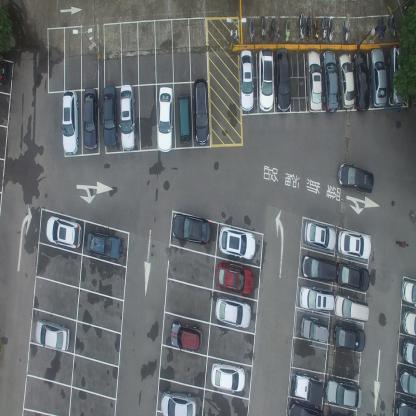car: (171, 211, 212, 245), (218, 224, 256, 260), (216, 260, 254, 295), (45, 214, 82, 249), (325, 376, 363, 410), (192, 77, 210, 146), (35, 317, 70, 352), (214, 296, 251, 329), (156, 86, 174, 152), (337, 162, 374, 194), (61, 90, 79, 155), (210, 360, 246, 392), (82, 87, 100, 150), (320, 50, 338, 113), (388, 43, 406, 106), (120, 83, 136, 153), (292, 370, 324, 405), (352, 50, 370, 112), (257, 47, 274, 112), (86, 230, 122, 260), (305, 50, 322, 113), (160, 388, 198, 415), (170, 319, 202, 351), (274, 46, 290, 110), (303, 219, 336, 250), (334, 293, 369, 322), (102, 85, 118, 148), (337, 53, 355, 109), (301, 254, 337, 282), (238, 50, 254, 112), (338, 229, 371, 259), (337, 262, 370, 292), (298, 285, 334, 312), (370, 48, 386, 108), (333, 324, 366, 351), (300, 314, 329, 342), (177, 92, 192, 144), (287, 400, 323, 416), (398, 367, 416, 397), (400, 280, 416, 306), (402, 338, 416, 366), (402, 310, 416, 337), (395, 399, 415, 415)
